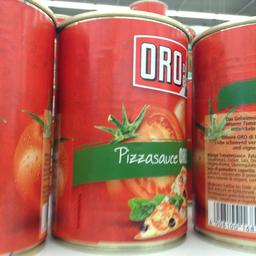tomato_sauce: (49, 7, 192, 254), (190, 14, 255, 244)
